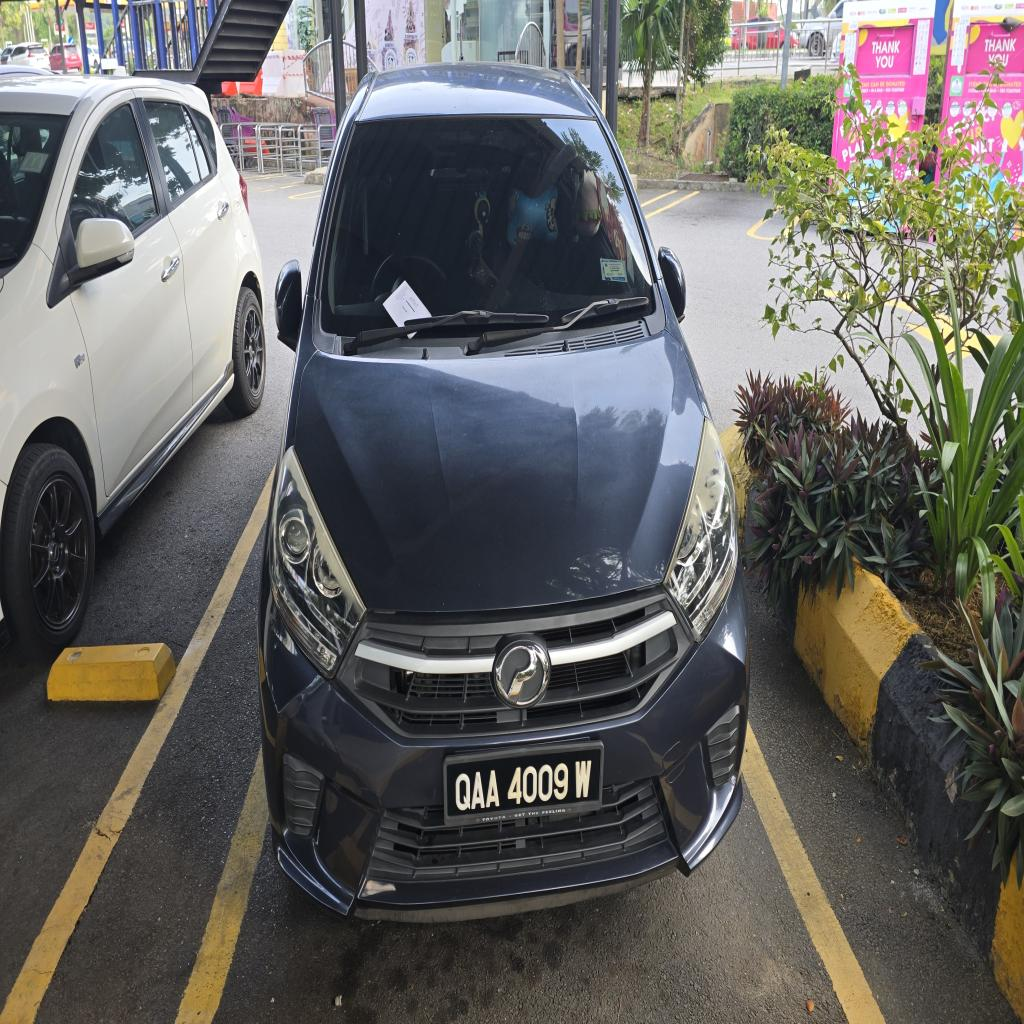car: (259, 64, 748, 920)
car plate: (444, 742, 603, 823)
